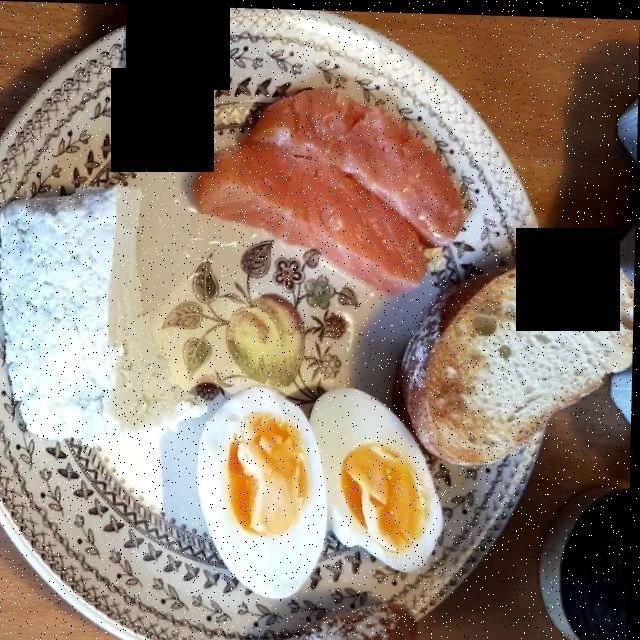bread: (432, 262, 630, 456)
egg: (197, 372, 432, 601)
salmon: (195, 89, 469, 281)
